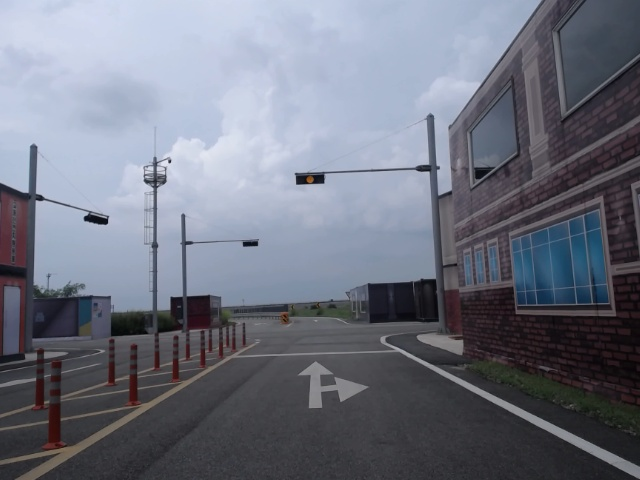orange_3: (295, 174, 324, 184)
